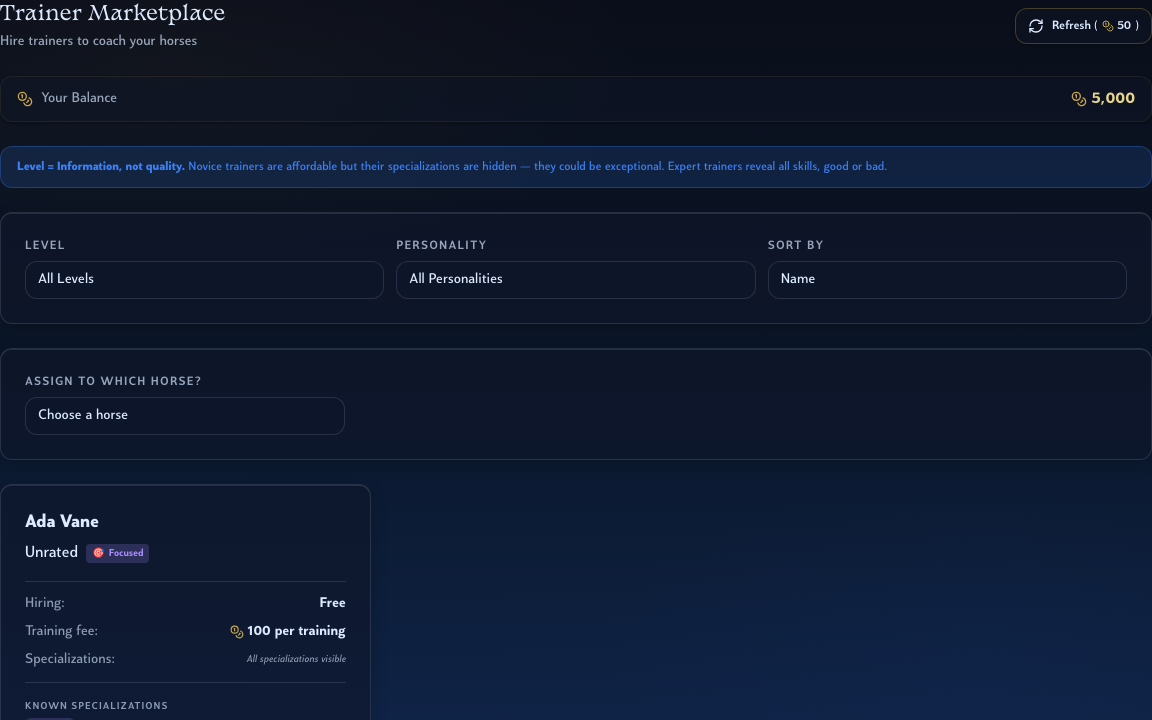
Test case: TrainerList — Assign Trainer (Equoria-1poxi) › with no horse in view it asks which horse before it will assign
Later steps or results of the test are not shown.
Select "Comet" in the dropdown labelled "Assign to which horse?" at (185, 416), box [25, 397, 345, 435]
(page scrolled)
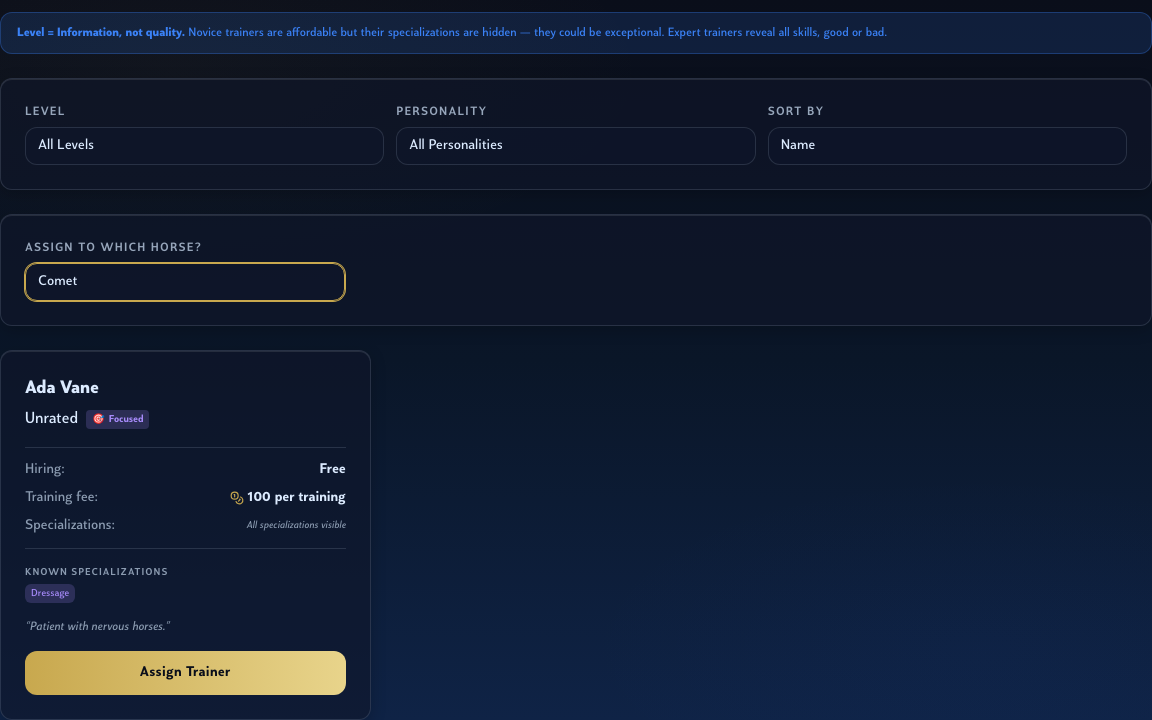
Expected: the button with test id "hire-button-mk-1" is enabled, [25, 651, 346, 695]
